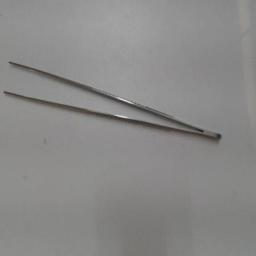DeBakey Dissector: (1, 52, 233, 160)
